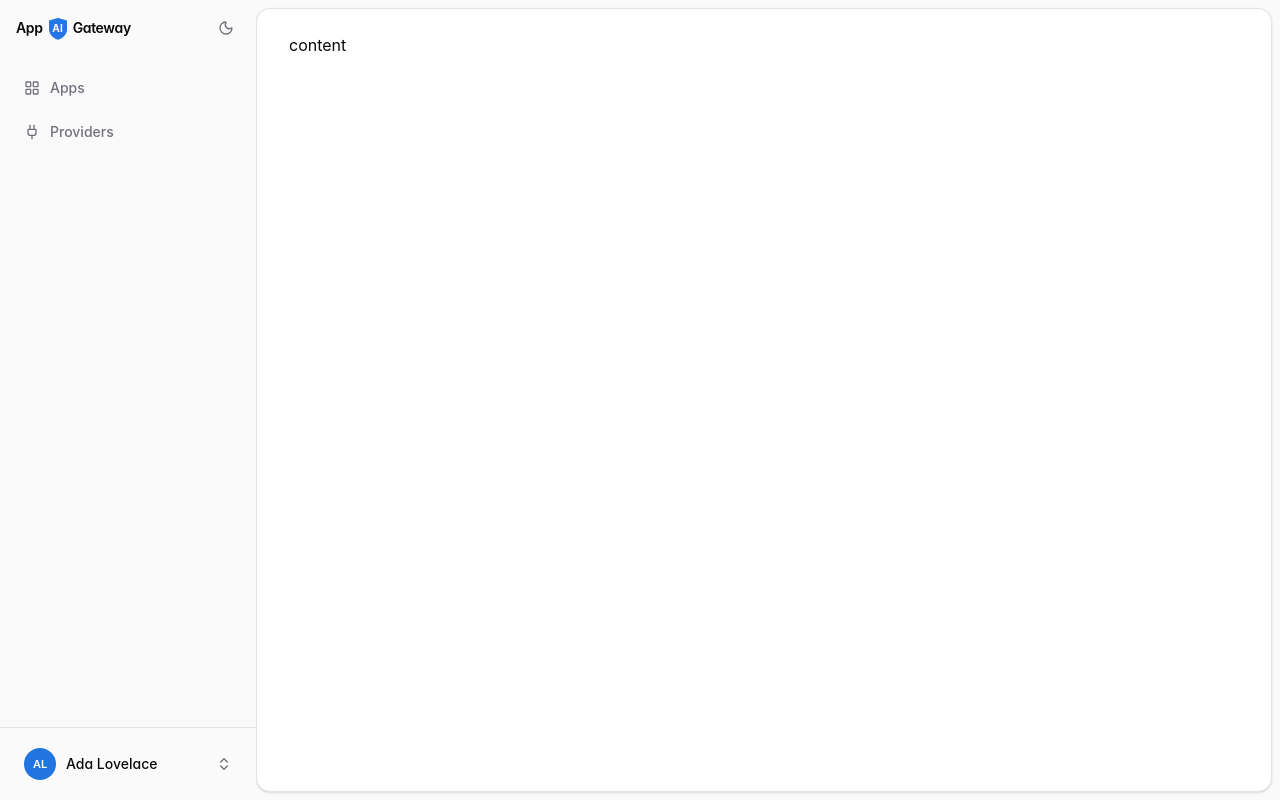
Test case: AppShell navigation › offers the organizations a multi-org operator can act as, in the menu
This screenshot has width=1280, height=800.
Expected: the text "Globex" is not shown
Click the button "AL Ada Lovelace". click: {"x": 128, "y": 764}
box: [12, 740, 244, 788]
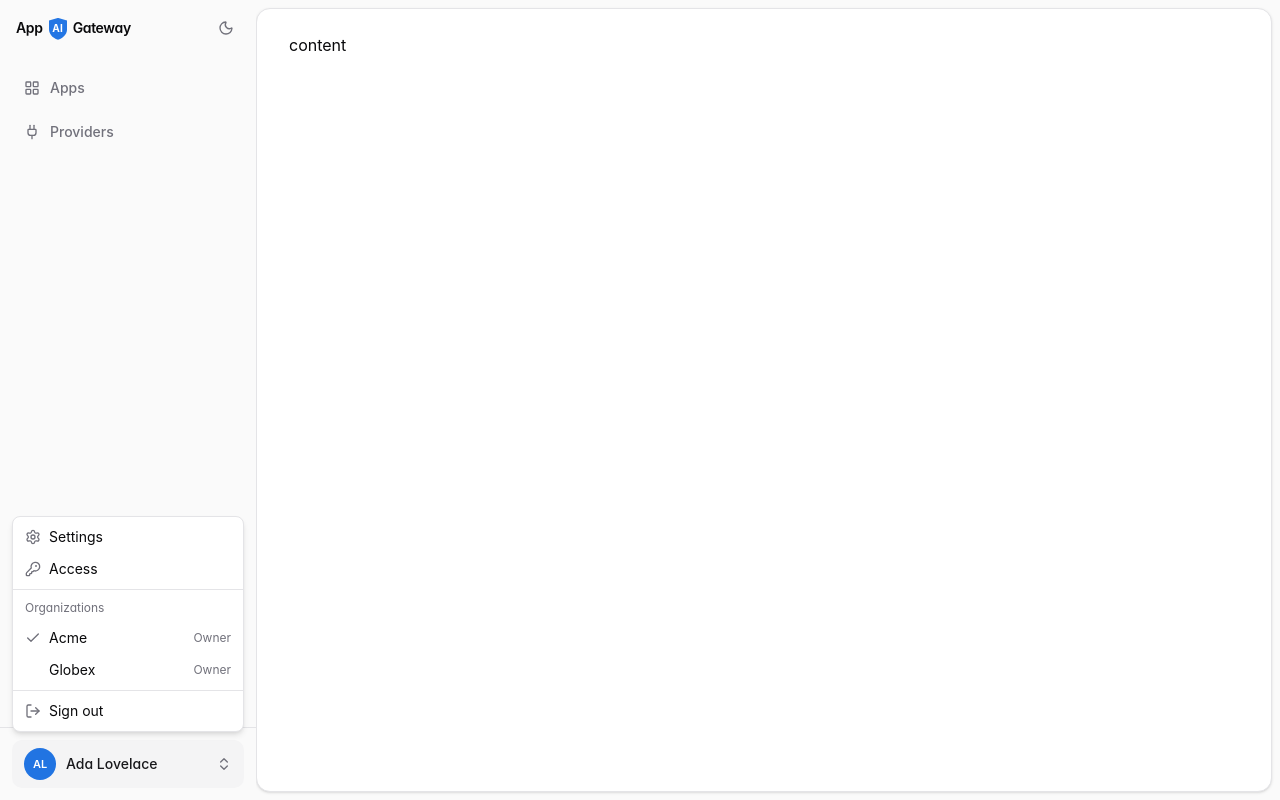
Expected: the menu item "Globex Owner" is shown, [49, 661, 231, 678]
